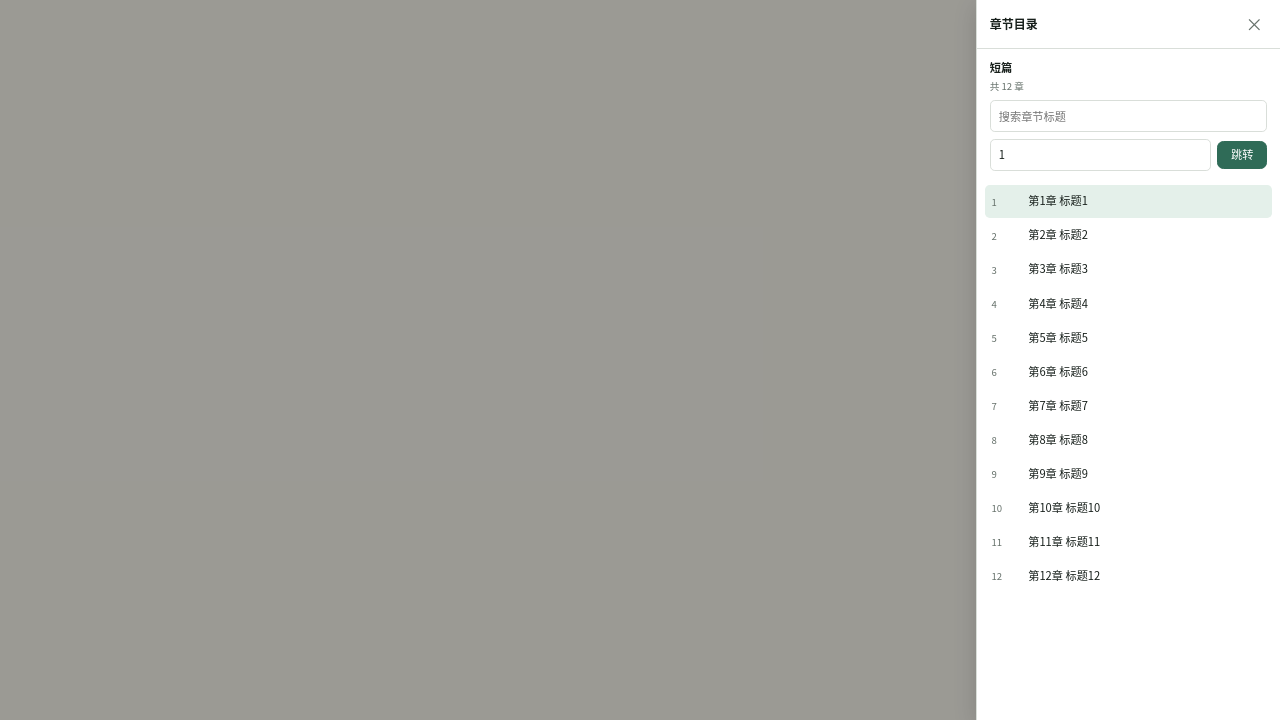
Scenario: ChapterNavigatorDrawer › shows range error and search empty state
The image size is (1280, 720).
Replace the text in the 1st field with test id "chapter-navigator-ordinal" with "99" at (1100, 155), box [990,139,1211,171]
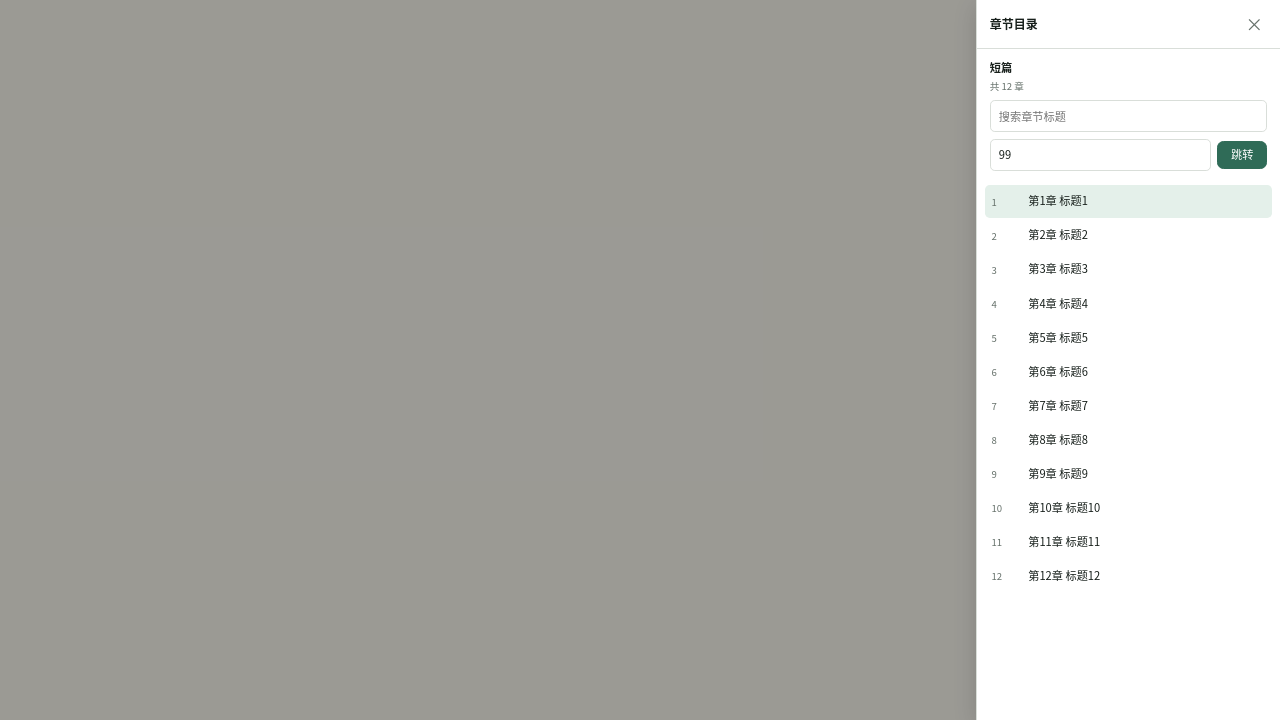
Click the button with test id "chapter-navigator-jump" showing "跳转" at (1242, 155), box [1217,140,1267,169]
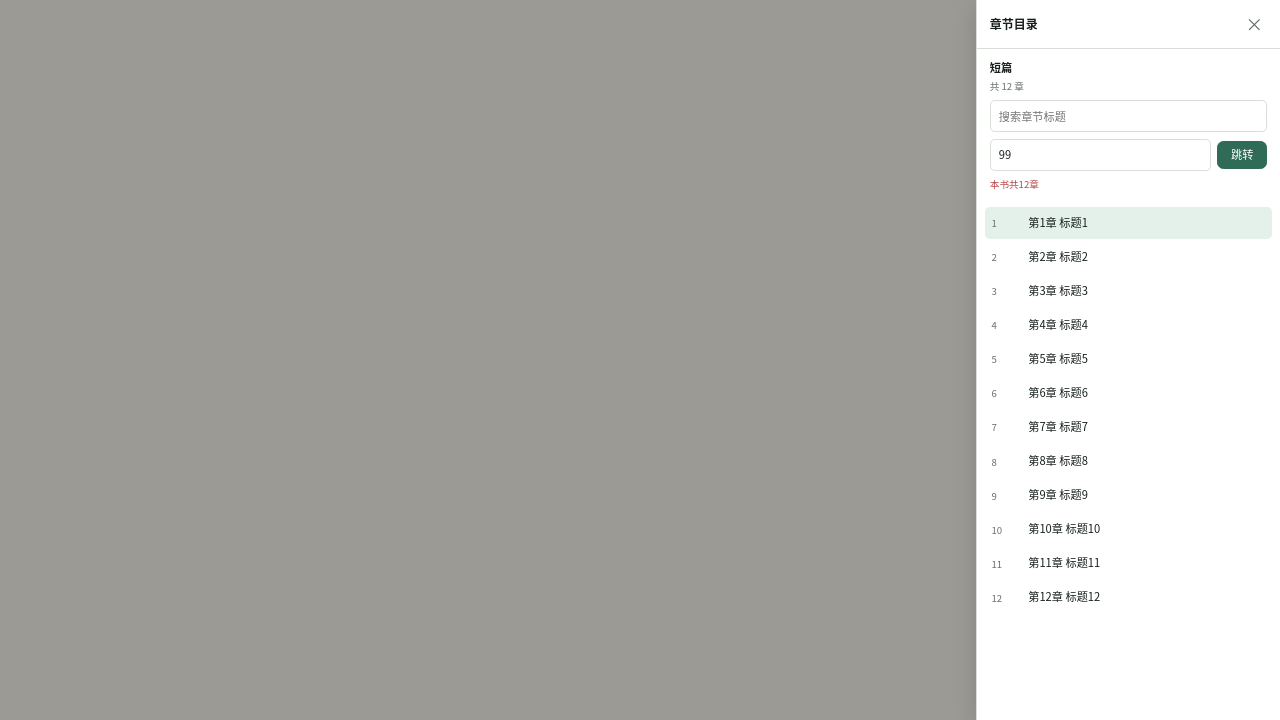
Check: the text with test id "chapter-navigator-ordinal-error" reads "本书共12章", box [990,177,1039,191]
Type "不存在的关键词" into the search field with test id "chapter-navigator-search" at (1128, 116), box [990,100,1267,132]
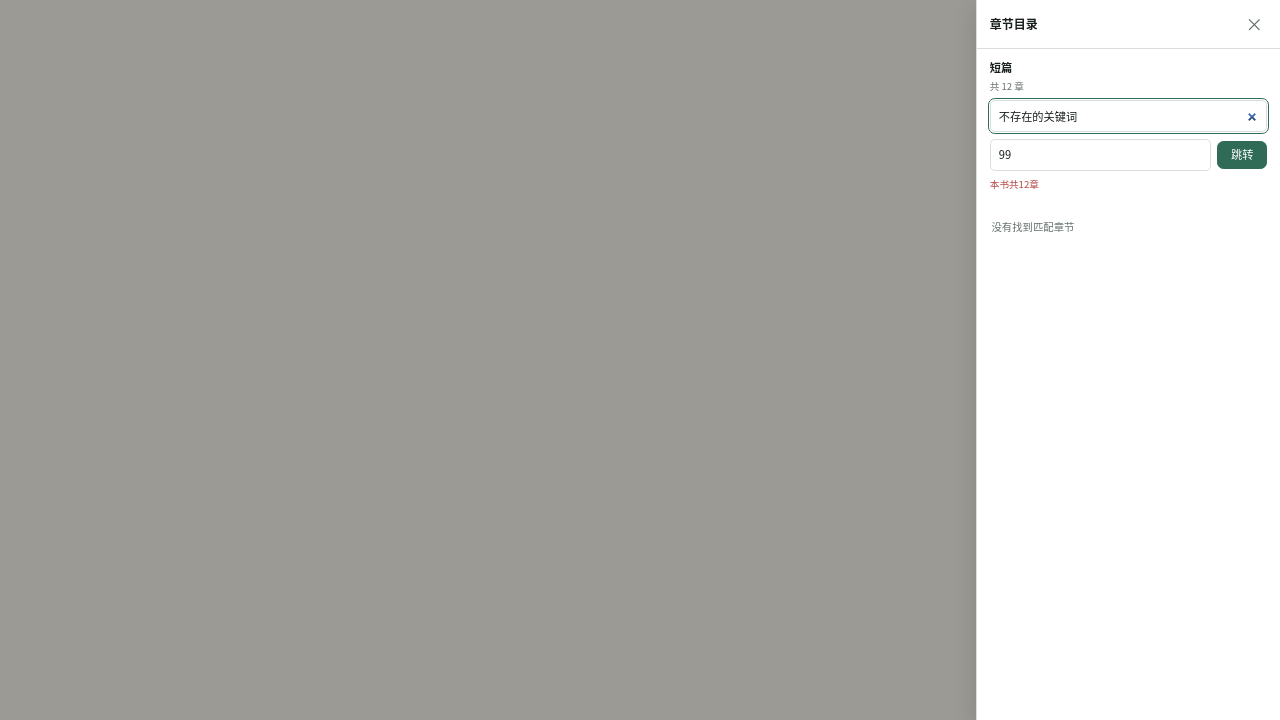
Check: the text with test id "chapter-navigator-no-results" reads "没有找到匹配章节", box [991,219,1074,234]
